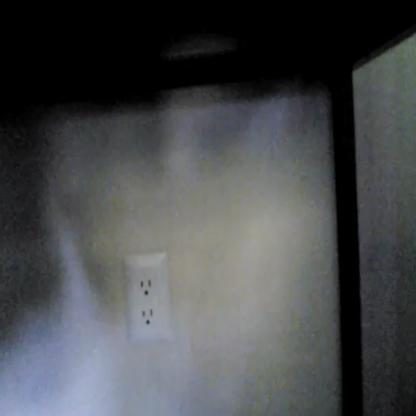OUTLET: (122, 252, 172, 343)
